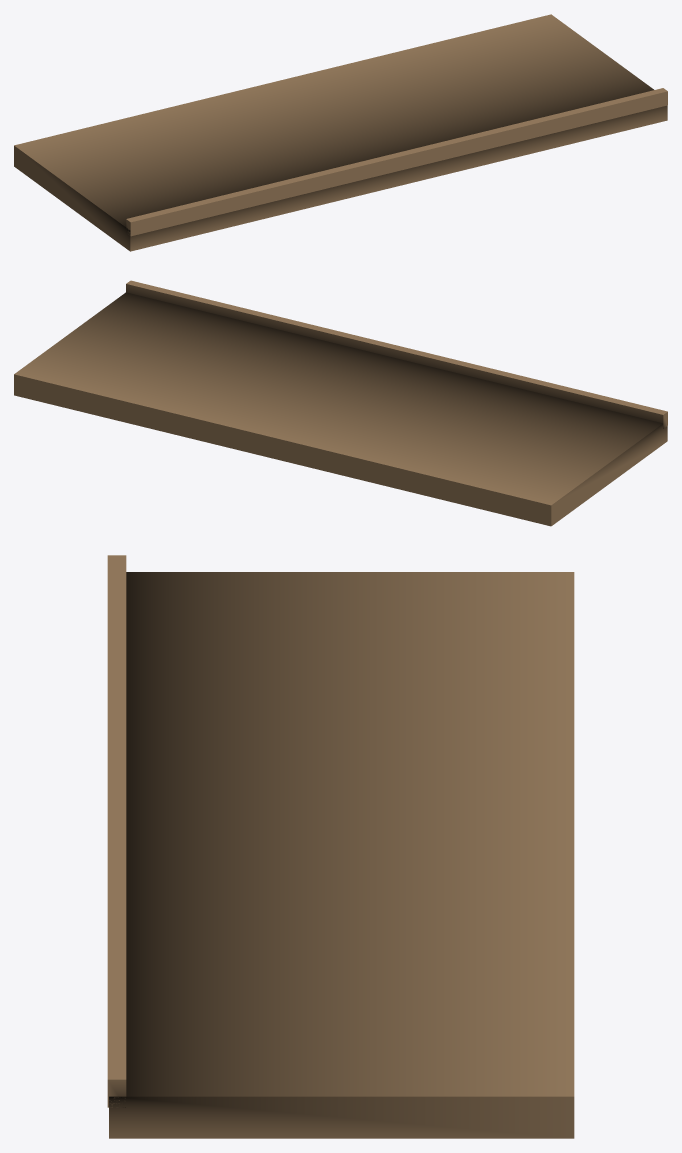
Rendered from wall_shelf.glb.
3 views of the same model, one above another, from view 1: azimuth 30°, elevation 25°; view 2: azimuth 150°, elevation 25°; view 3: azimuth 270°, elevation 25° (orthographic). The views are drawn at different scales.
Parts seen in each view (by area): view 1: wall_shelf; view 2: wall_shelf; view 3: wall_shelf.
Part boxes in pixels (<box>): wall_shelf: <box>14,14,667,251</box>; wall_shelf: <box>14,280,667,526</box>; wall_shelf: <box>107,555,574,1138</box>.
Bounding box in the file's own units: 0.8 × 0.042 × 0.301.
